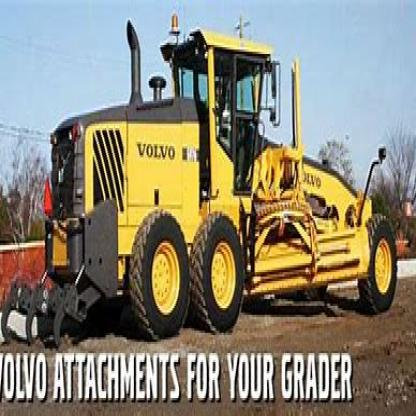bull_dozer/loader/grader: (0, 15, 403, 340)
